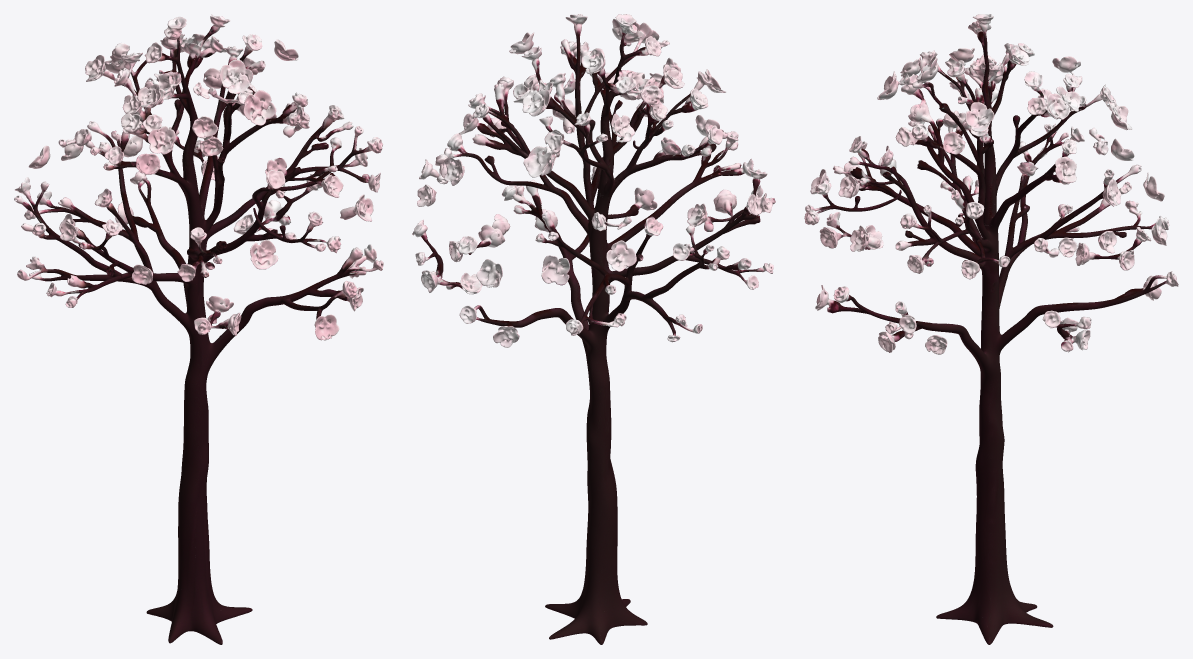
File: Model_CherryTree2.fbx
3 views of the same model, side by side, from view 1: azimuth 30°, elevation 25°; view 2: azimuth 150°, elevation 25°; view 3: azimuth 270°, elevation 25° (orthographic). The views are drawn at different scales.
Visible parts, largest first — view 1: Mesh_0; view 2: Mesh_0; view 3: Mesh_0.
Boxes of the visible parts, bbox=[...] form: Mesh_0: bbox=[14, 14, 383, 644]; Mesh_0: bbox=[412, 14, 775, 644]; Mesh_0: bbox=[804, 14, 1178, 644].
Size of the model in its own units: 1.02 by 1.9 by 1.08.
Materials: 1 (1 with a texture image).
